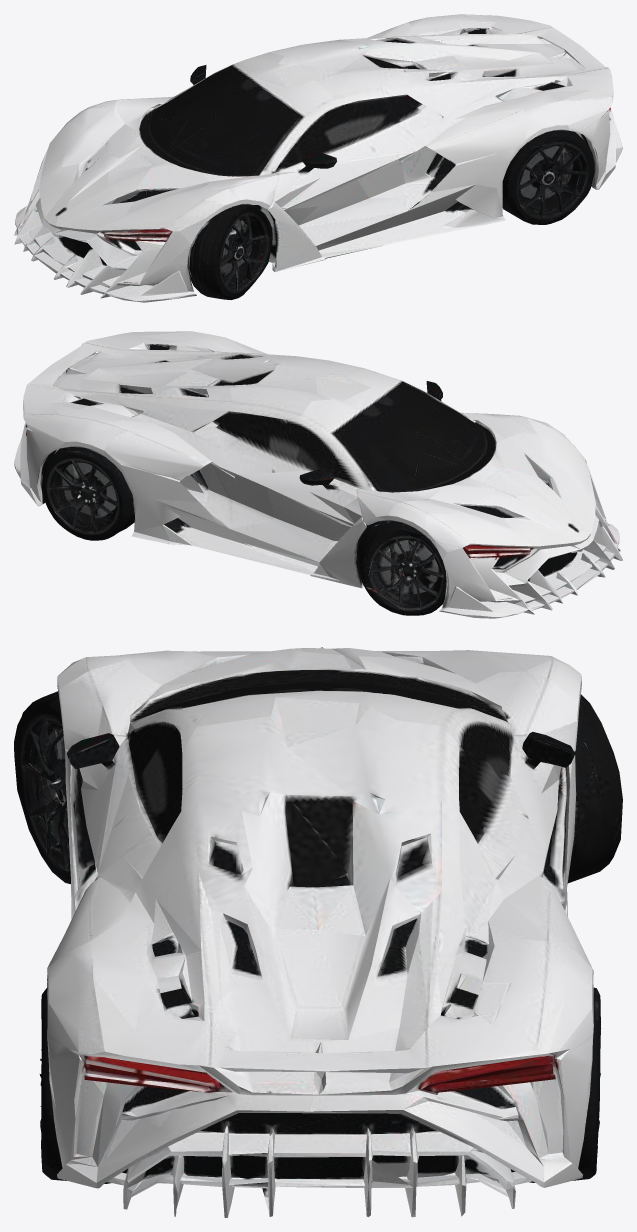
The model's file is hero.glb.
The picture shows the model from 3 angles, top to bottom: view 1: azimuth 30°, elevation 25°; view 2: azimuth 150°, elevation 25°; view 3: azimuth 270°, elevation 25°; orthographic projection. The views are drawn at different scales.
Parts seen in each view (by area): view 1: output_unwrapped; view 2: output_unwrapped; view 3: output_unwrapped.
Part boxes in pixels (bbox=[...]): output_unwrapped: bbox=[14, 14, 622, 302]; output_unwrapped: bbox=[14, 331, 622, 618]; output_unwrapped: bbox=[14, 647, 622, 1217].
Bounding box in the file's own units: 1.9 × 0.4952 × 0.952.
Materials: 1 (1 with a texture image).
